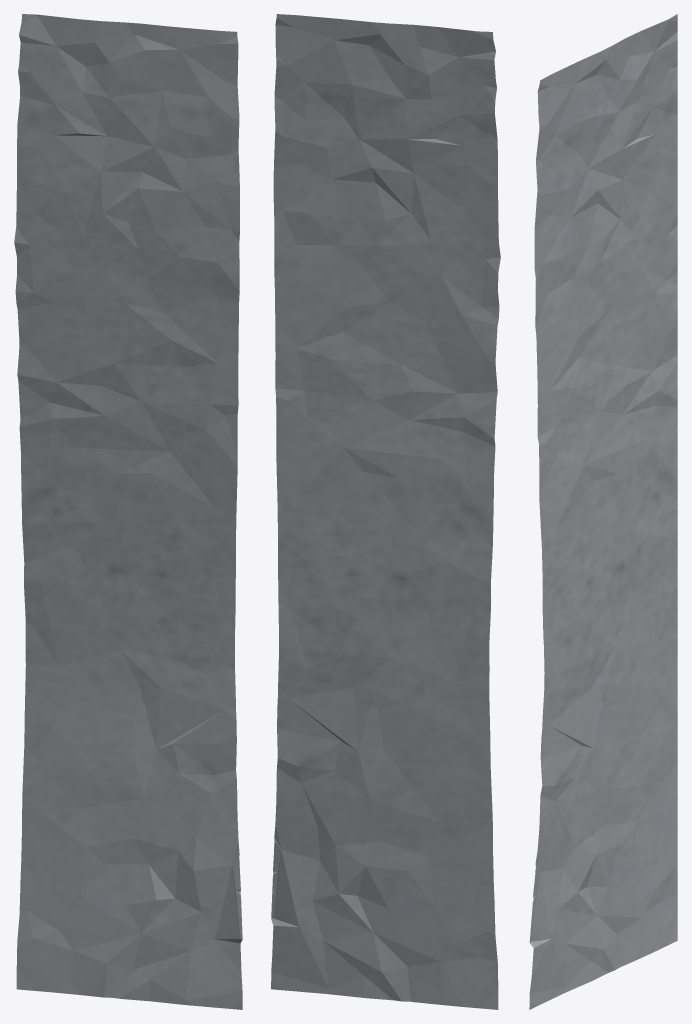
The picture shows the model from 3 angles, left to right: view 1: azimuth 30°, elevation 25°; view 2: azimuth 210°, elevation 25°; view 3: azimuth 270°, elevation 25°; orthographic projection. The views are drawn at different scales.
Bounding box in the file's own units: 0.1358 × 0.8374 × 0.1209.
1 material, 1 textured.
